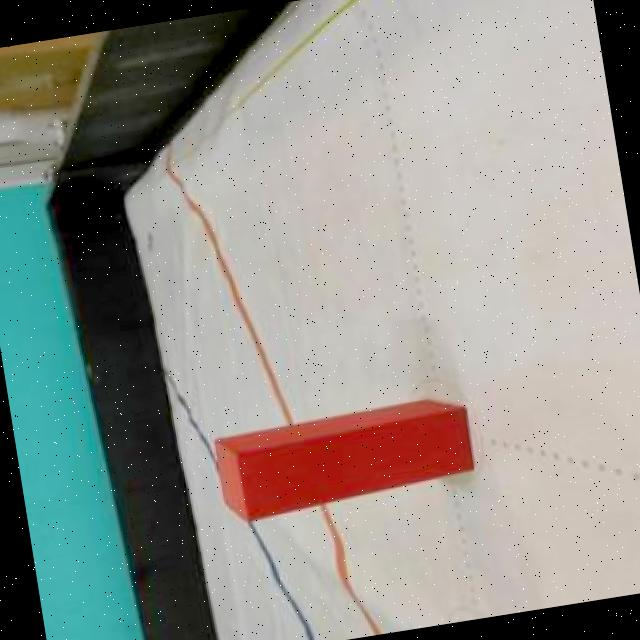redbox: (211, 392, 475, 524)
